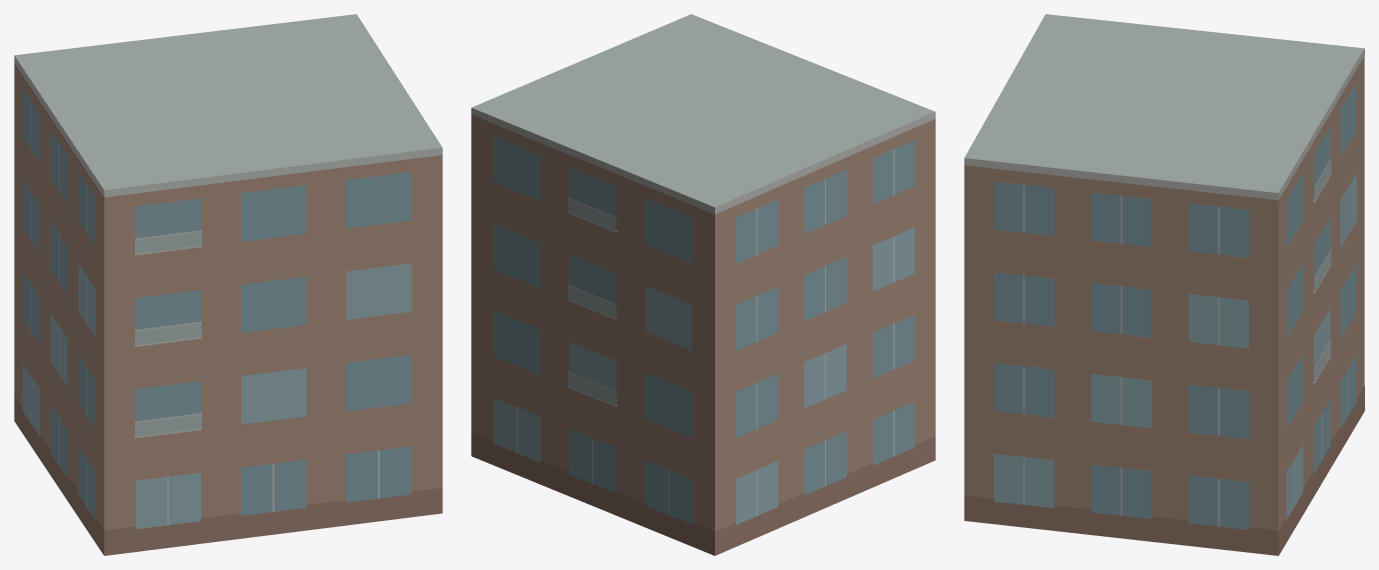
The model's file is survey-upis-32737164.glb.
3 renders of one model, left to right at view 1: azimuth 30°, elevation 25°; view 2: azimuth 150°, elevation 25°; view 3: azimuth 270°, elevation 25°, orthographic. The views are drawn at different scales.
Visible parts, largest first — view 1: survey-upis-32737164.tmp; view 2: survey-upis-32737164.tmp; view 3: survey-upis-32737164.tmp.
Boxes of the visible parts, box(x1,y1,x2,y2) form: survey-upis-32737164.tmp: box(14, 14, 442, 555); survey-upis-32737164.tmp: box(471, 14, 935, 555); survey-upis-32737164.tmp: box(964, 14, 1364, 555).
Size of the model in its own units: 12.92 by 12.2 by 12.21.
